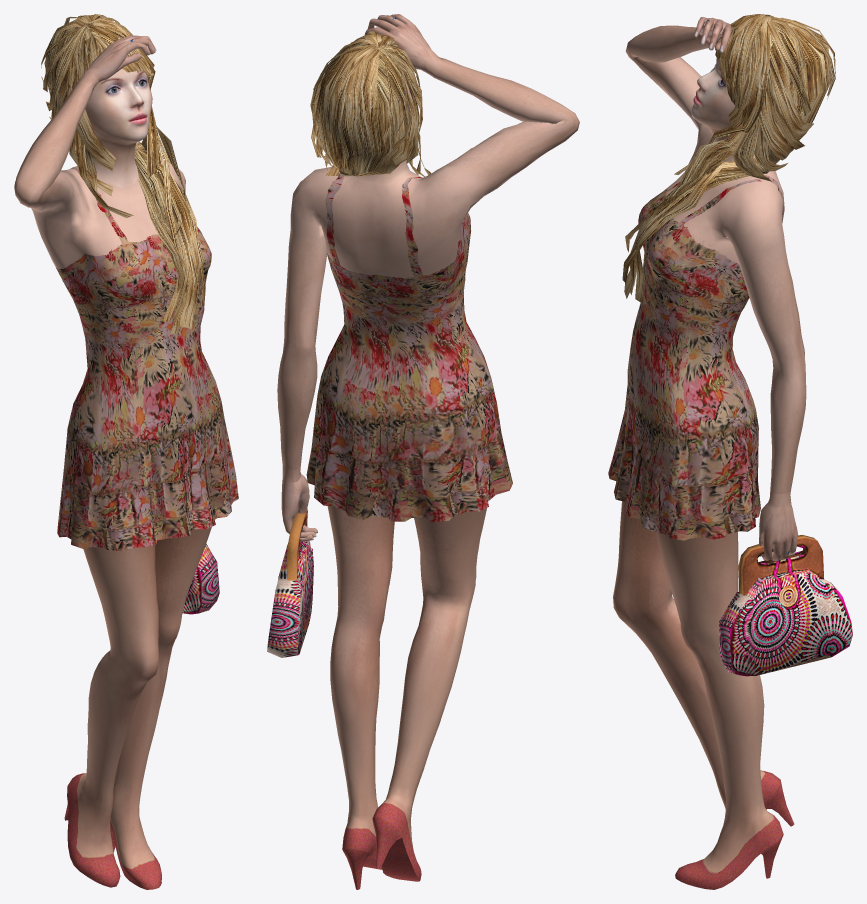
3 renders of one model, left to right at view 1: azimuth 30°, elevation 25°; view 2: azimuth 150°, elevation 25°; view 3: azimuth 270°, elevation 25°, orthographic.
Parts seen in each view (by area): view 1: UA_Female12_7; view 2: UA_Female12_7; view 3: UA_Female12_7.
Part boxes in pixels (<box>): UA_Female12_7: <box>14,14,238,889</box>; UA_Female12_7: <box>267,14,579,889</box>; UA_Female12_7: <box>608,14,852,889</box>.
Size of the model in its own units: 54.22 by 178 by 45.73.
4 materials, 4 textured.
